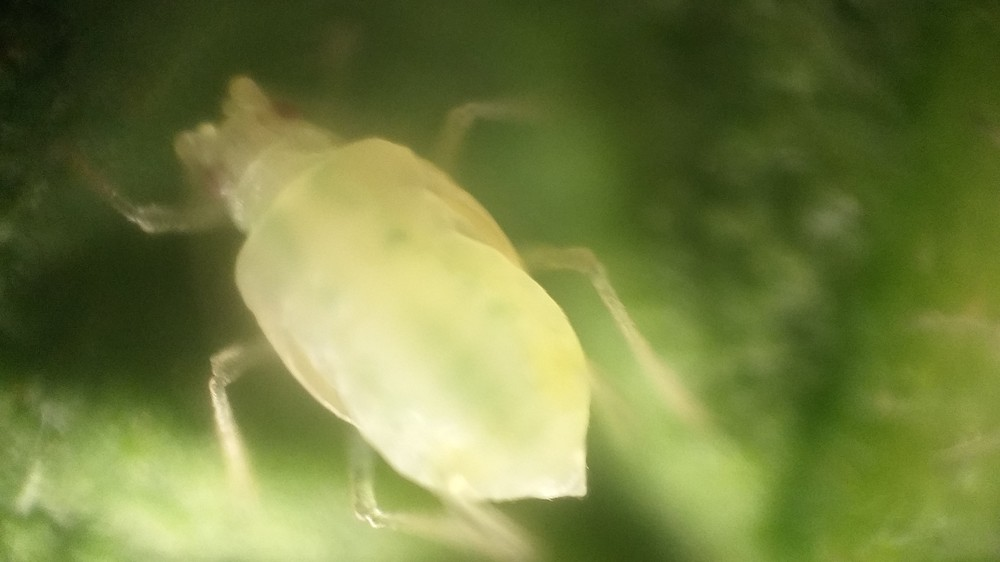Pulgon: (62, 36, 732, 556)
